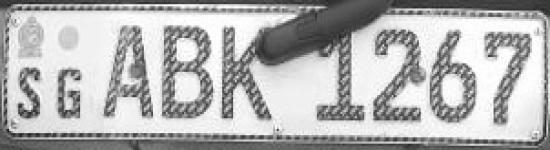1: (312, 19, 368, 125)
2: (369, 23, 426, 126)
6: (427, 25, 480, 128)
7: (481, 26, 531, 129)
A: (100, 18, 156, 125)
B: (157, 21, 216, 125)
G: (52, 64, 94, 128)
K: (216, 19, 274, 129)
S: (13, 66, 49, 125)
